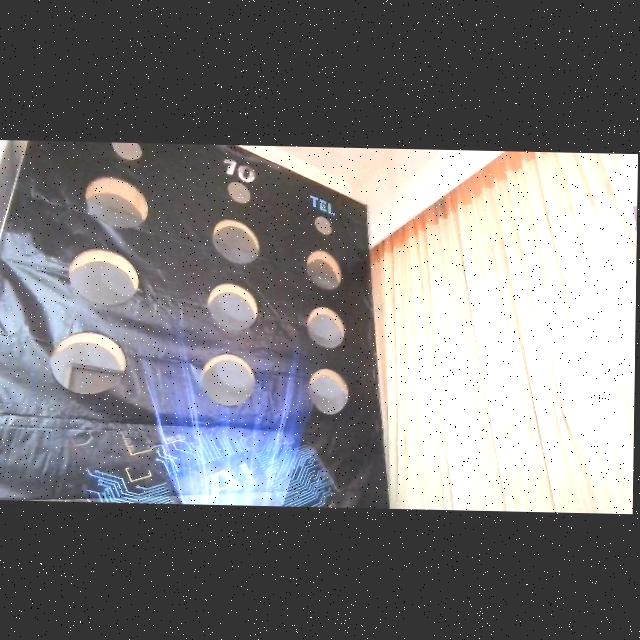hole: (51, 331, 126, 395), (70, 248, 139, 305), (85, 177, 149, 229), (199, 353, 255, 406), (208, 282, 257, 331), (212, 219, 260, 264), (308, 368, 349, 415), (306, 306, 344, 348), (307, 251, 342, 290), (113, 139, 143, 161), (228, 182, 251, 204), (315, 216, 332, 235)
